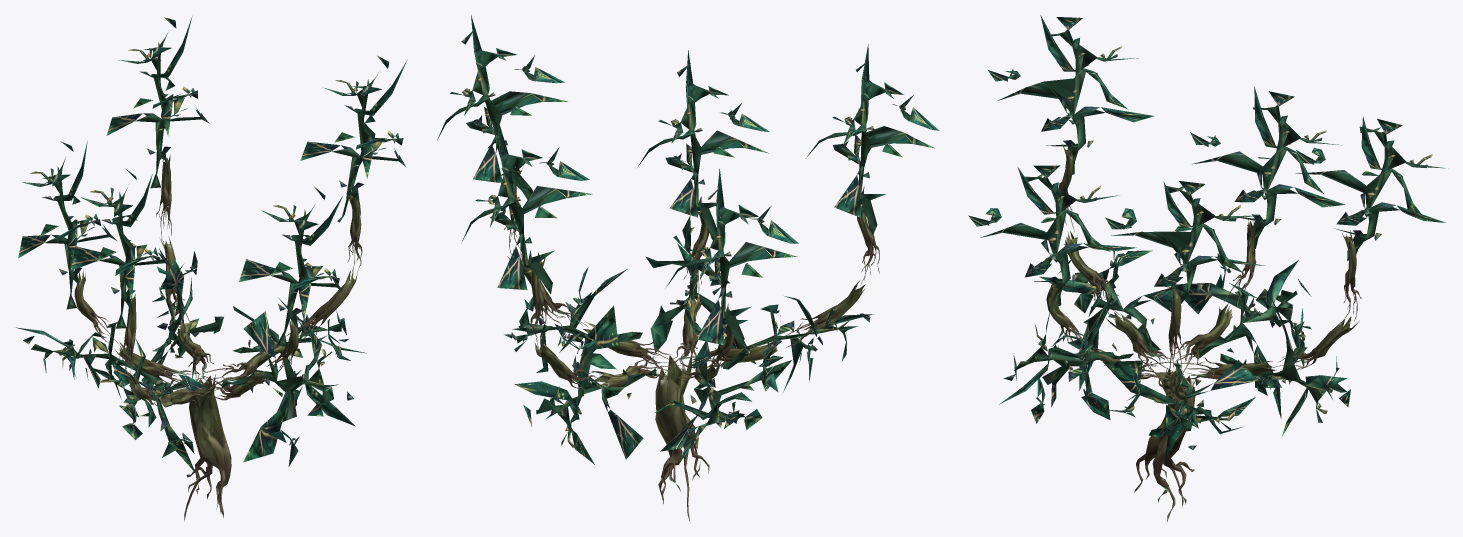
The model's file is lantern.glb.
3 views of the same model, side by side, from view 1: azimuth 30°, elevation 25°; view 2: azimuth 150°, elevation 25°; view 3: azimuth 270°, elevation 25° (orthographic). The views are drawn at different scales.
Visible parts, largest first — view 1: Mesh; view 2: Mesh; view 3: Mesh.
Part boxes in pixels (box(x1,y1,x2,y2)): Mesh: box(16, 16, 407, 521); Mesh: box(437, 15, 939, 522); Mesh: box(968, 15, 1448, 522).
Size of the model in its own units: 0.8761 by 0.9707 by 0.9526.
Materials: 1 (1 with a texture image).
